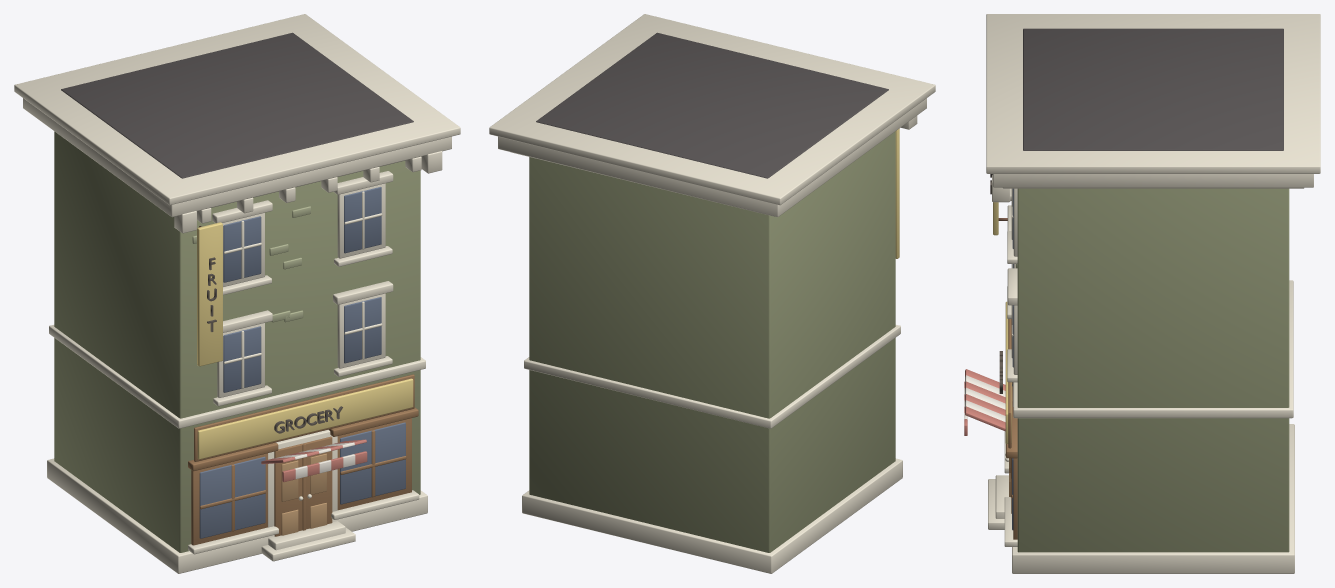
File: edificio_07a.glb
3 views of the same model, side by side, from view 1: azimuth 30°, elevation 25°; view 2: azimuth 150°, elevation 25°; view 3: azimuth 270°, elevation 25° (orthographic). The views are drawn at different scales.
Parts seen in each view (by area): view 1: corpo, tetto, cornicione_corona, insegna_h, zoccolo, cornicione_fascia, vetrina_vetro_L, fascia_pt, vetrina_vetro_R, insegna_v, fin_p1_0_vetro, fin_p2_0_vetro (+23 smaller); view 2: corpo, tetto, cornicione_corona, zoccolo, cornicione_fascia, fascia_pt, insegna_v; view 3: corpo, tetto, cornicione_corona, zoccolo, cornicione_fascia, fascia_pt, cornicione_gola, insegna_h, gradino_alto, gradino_basso, vetrina_davanzale_R.
Part boxes in pixels (x1,y1,x2,y2): corpo: [54, 131, 420, 552]; tetto: [61, 32, 413, 178]; cornicione_corona: [14, 14, 460, 205]; insegna_h: [197, 378, 413, 459]; zoccolo: [47, 458, 427, 573]; cornicione_fascia: [23, 98, 451, 217]; vetrina_vetro_L: [199, 456, 265, 538]; fascia_pt: [49, 325, 425, 428]; vetrina_vetro_R: [340, 422, 405, 504]; insegna_v: [197, 222, 222, 366]; fin_p1_0_vetro: [223, 326, 261, 392]; fin_p2_0_vetro: [223, 216, 261, 282]; corpo: [529, 131, 895, 552]; tetto: [536, 32, 888, 178]; cornicione_corona: [489, 14, 935, 205]; zoccolo: [522, 458, 902, 573]; cornicione_fascia: [498, 98, 926, 217]; fascia_pt: [524, 325, 900, 428]; insegna_v: [895, 128, 899, 258]; corpo: [1017, 188, 1289, 552]; tetto: [1023, 28, 1283, 150]; cornicione_corona: [986, 14, 1320, 173]; zoccolo: [1012, 424, 1294, 573]; cornicione_fascia: [993, 174, 1313, 187]; fascia_pt: [1013, 280, 1293, 418]; cornicione_gola: [1003, 187, 1303, 188]; insegna_h: [1005, 301, 1011, 443]; gradino_alto: [995, 475, 1008, 518]; gradino_basso: [988, 479, 1004, 529]; vetrina_davanzale_R: [1004, 497, 1017, 546].
Bounding box in the file's own units: 6.65 × 8.52 × 6.56.
